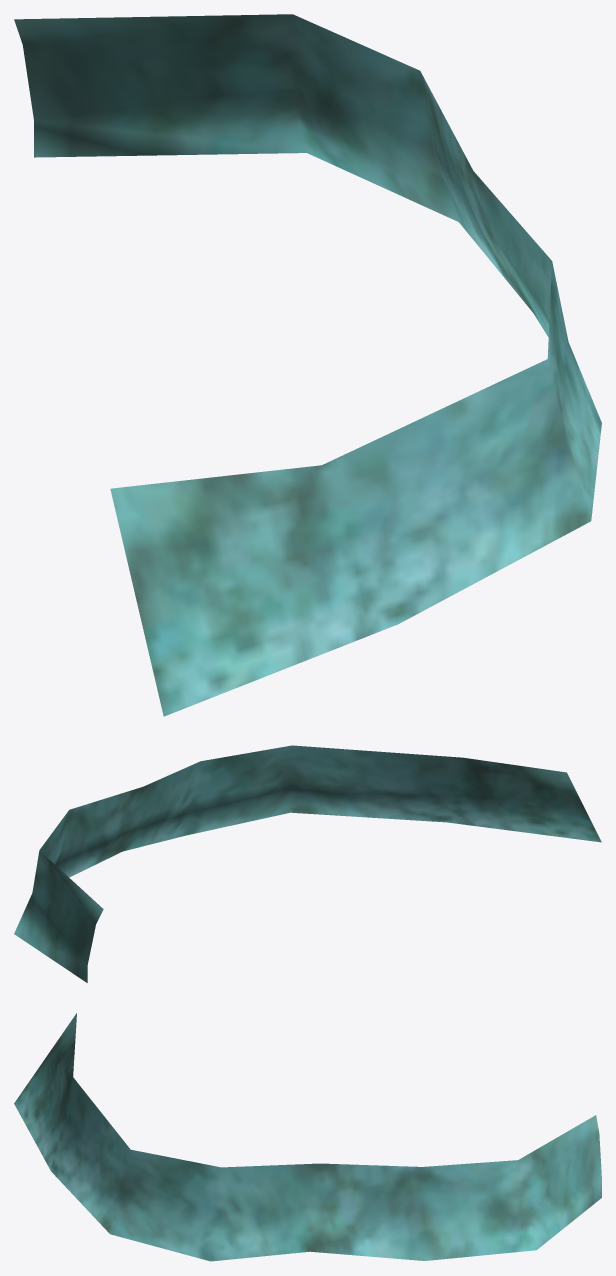
File: EKH_GROTTO_PS_GR_OBJECT52.fbx
3 renders of one model, top to bottom at view 1: azimuth 30°, elevation 25°; view 2: azimuth 150°, elevation 25°; view 3: azimuth 270°, elevation 25°, orthographic. The views are drawn at different scales.
Visible parts, largest first — view 1: EKH_GROTTO_PS_GR_OBJECT52; view 2: EKH_GROTTO_PS_GR_OBJECT52; view 3: EKH_GROTTO_PS_GR_OBJECT52.
Part boxes in pixels (x1,y1,x2,y2): EKH_GROTTO_PS_GR_OBJECT52: (14, 14, 601, 716); EKH_GROTTO_PS_GR_OBJECT52: (14, 745, 601, 982); EKH_GROTTO_PS_GR_OBJECT52: (14, 1013, 601, 1261).
Size of the model in its own units: 49131 by 13227 by 70076.
Materials: 1 (1 with a texture image).
